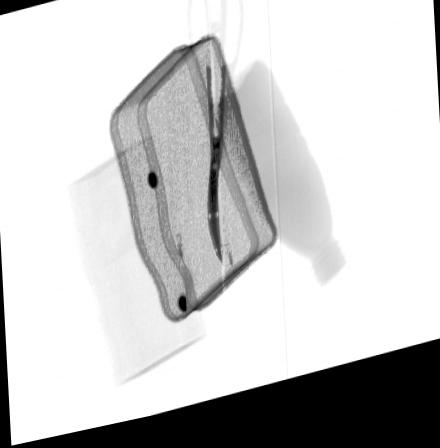Scissors: (186, 0, 272, 272)
